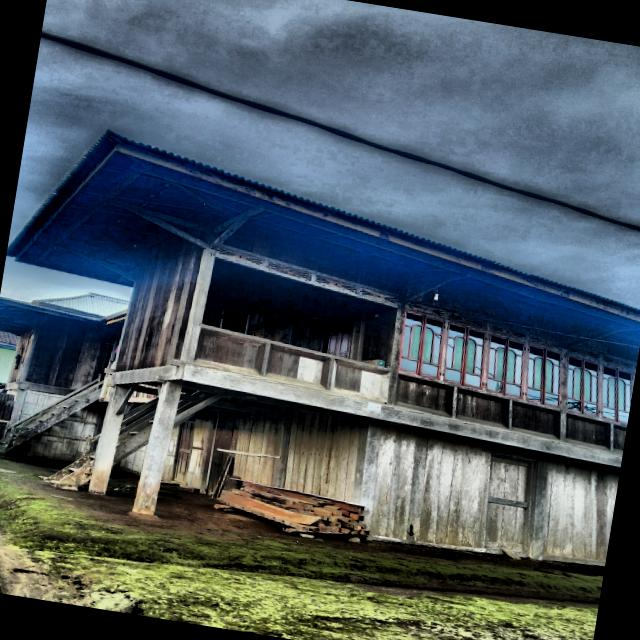column: (132, 379, 183, 515), (88, 383, 132, 495)
door: (484, 452, 537, 553), (327, 316, 354, 359)
ornamen: (193, 327, 267, 376), (265, 344, 331, 390), (330, 359, 391, 403), (395, 374, 454, 417), (455, 388, 510, 429), (511, 400, 560, 440), (566, 413, 611, 450), (216, 247, 264, 268), (267, 261, 312, 281), (314, 275, 358, 294), (359, 287, 399, 305), (448, 312, 487, 330), (405, 301, 446, 318), (489, 324, 526, 341), (528, 334, 563, 350), (600, 353, 632, 370), (568, 346, 599, 360), (613, 425, 627, 453)
roof: (6, 131, 639, 331), (0, 298, 94, 335), (32, 293, 128, 318), (0, 331, 18, 346)
stair: (0, 380, 102, 452), (113, 399, 156, 464)
wall: (361, 418, 621, 561), (206, 412, 369, 504), (115, 234, 203, 373)
window: (398, 310, 445, 380), (443, 322, 486, 390), (486, 333, 525, 399), (525, 344, 562, 409), (566, 355, 599, 418), (602, 366, 631, 424)
